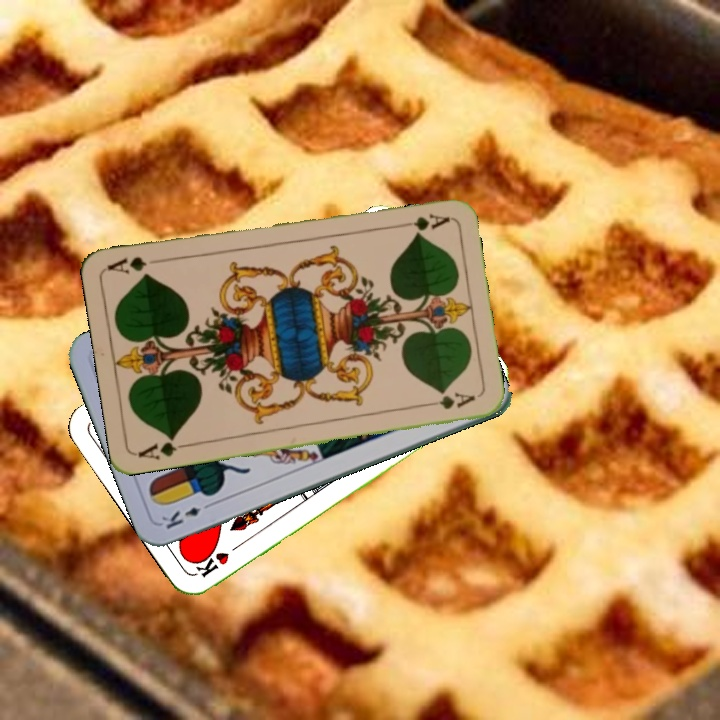EK: (157, 498, 216, 532)
GA: (134, 432, 193, 462), (392, 209, 452, 233)
HK: (192, 538, 245, 581)
